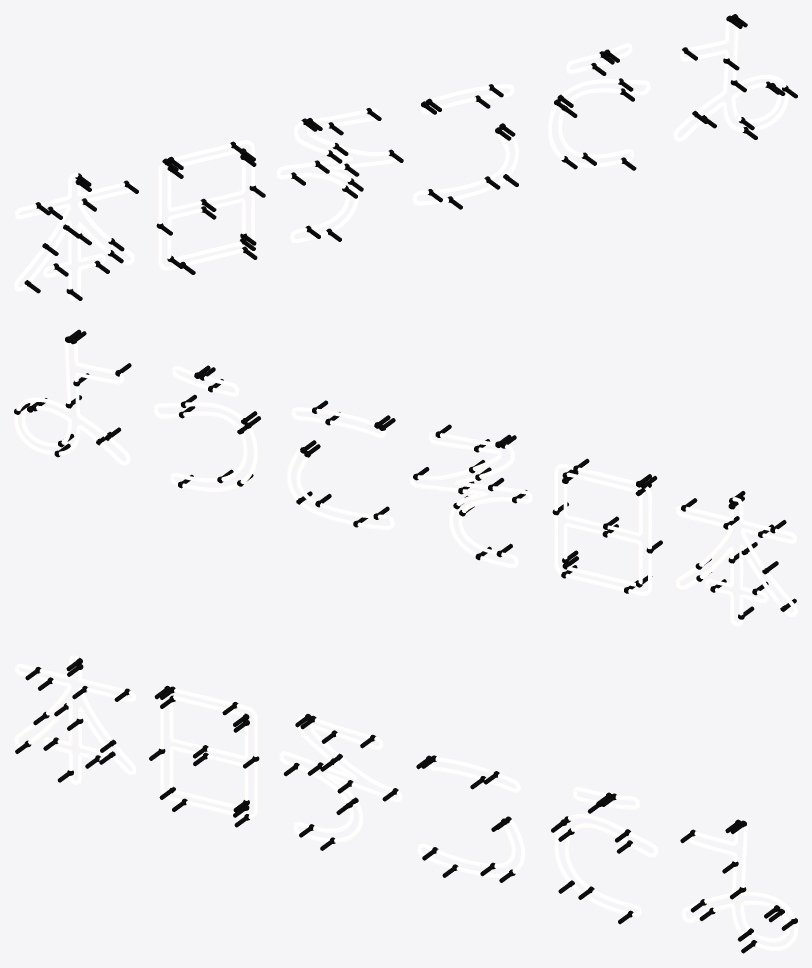
The model's file is neon_youkosonihon.fbx.
3 renders of one model, top to bottom at view 1: azimuth 30°, elevation 25°; view 2: azimuth 150°, elevation 25°; view 3: azimuth 330°, elevation 25°, orthographic.
Parts seen in each view (by area): view 1: NeonEnglish; view 2: NeonEnglish; view 3: NeonEnglish.
Boxes of the visible parts, x1,y1,x2,y2 form: NeonEnglish: (14,14,797,300); NeonEnglish: (14,329,797,626); NeonEnglish: (14,655,797,953).
Bounding box in the file's own units: 764 × 120 × 21.29.
